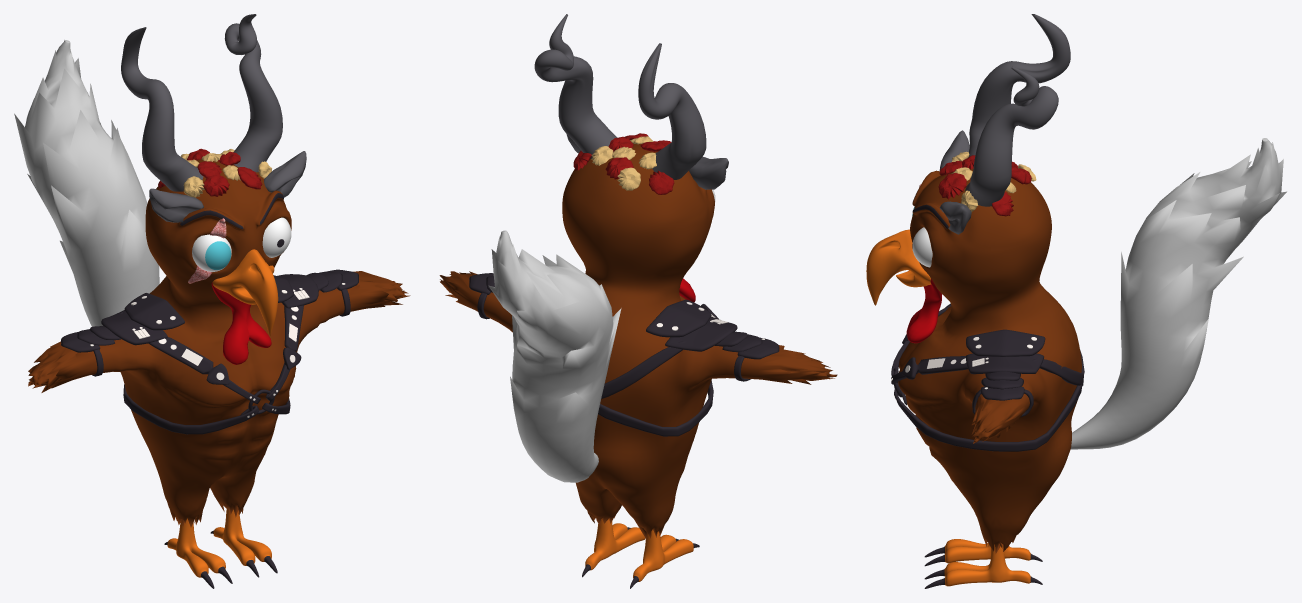
File: Chicken_Body_MeleeNoRig.fbx
The picture shows the model from 3 angles, left to right: view 1: azimuth 30°, elevation 25°; view 2: azimuth 150°, elevation 25°; view 3: azimuth 270°, elevation 25°; orthographic projection. The views are drawn at different scales.
Parts seen in each view (by area): view 1: Chicken_Body.004, Tilkı_Kuyruk_Melee, Minotaur Horn, Vücut Kemeri, Chicken_Feet.003, Chicken_Beak.004, Injured_Eye, Chicken_Jowl.004; view 2: Chicken_Body.004, Tilkı_Kuyruk_Melee, Minotaur Horn, Vücut Kemeri, Chicken_Feet.003; view 3: Chicken_Body.004, Tilkı_Kuyruk_Melee, Minotaur Horn, Vücut Kemeri, Chicken_Feet.003, Chicken_Beak.004, Chicken_Jowl.004, Injured_Eye.
Boxes of the visible parts, x1,y1,x2,y2 form: Chicken_Body.004: (28, 159, 410, 527); Tilkı_Kuyruk_Melee: (14, 40, 159, 326); Minotaur Horn: (121, 14, 306, 222); Vücut Kemeri: (61, 269, 358, 434); Chicken_Feet.003: (164, 507, 277, 588); Chicken_Beak.004: (212, 249, 278, 335); Injured_Eye: (188, 217, 291, 283); Chicken_Jowl.004: (211, 282, 271, 364); Chicken_Body.004: (439, 144, 837, 539); Tilkı_Kuyruk_Melee: (488, 230, 621, 482); Minotaur Horn: (534, 14, 728, 194); Vücut Kemeri: (469, 273, 779, 436); Chicken_Feet.003: (582, 518, 699, 588); Chicken_Body.004: (898, 168, 1081, 553); Tilkı_Kuyruk_Melee: (1070, 138, 1286, 449); Minotaur Horn: (938, 14, 1070, 234); Vücut Kemeri: (891, 303, 1084, 451); Chicken_Feet.003: (924, 539, 1042, 588); Chicken_Beak.004: (866, 229, 931, 305); Chicken_Jowl.004: (906, 278, 942, 343); Injured_Eye: (912, 184, 932, 267).
Bounding box in the file's own units: 293 × 388 × 276.
